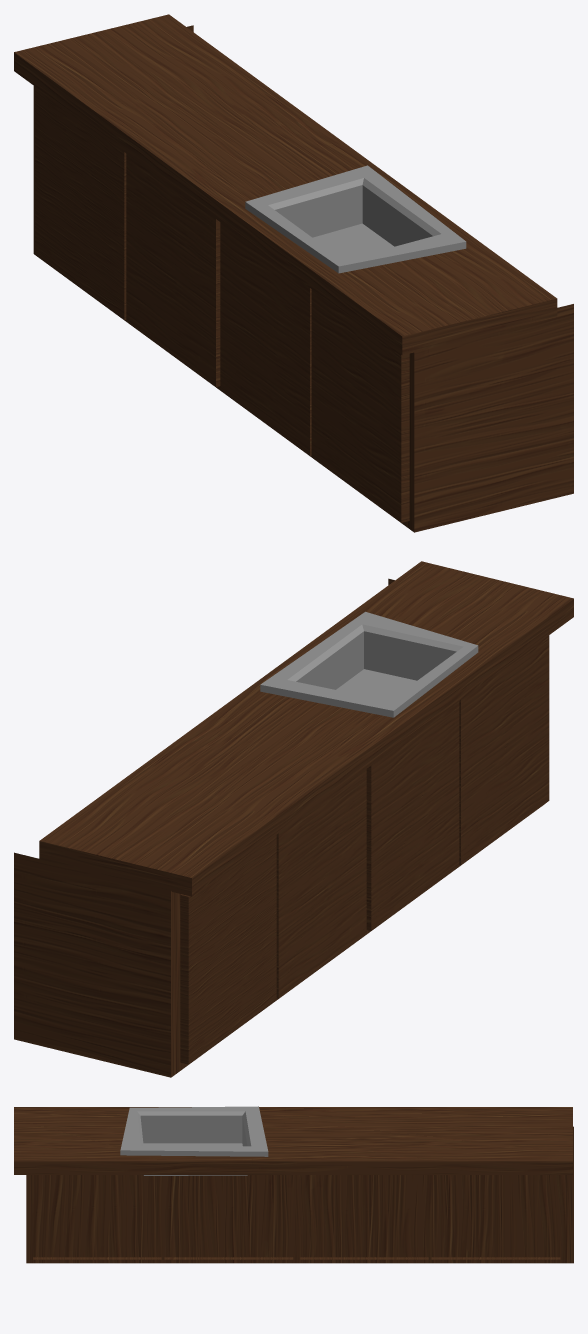
The model's file is KitchenCounter2.fbx.
3 views of the same model, one above another, from view 1: azimuth 30°, elevation 25°; view 2: azimuth 150°, elevation 25°; view 3: azimuth 270°, elevation 25° (orthographic). The views are drawn at different scales.
Parts seen in each view (by area): view 1: Midnight_Antics_House_Build_V1.010; view 2: Midnight_Antics_House_Build_V1.010; view 3: Midnight_Antics_House_Build_V1.010.
Part boxes in pixels (x1,y1,x2,y2): Midnight_Antics_House_Build_V1.010: (14, 14, 573, 532); Midnight_Antics_House_Build_V1.010: (14, 561, 573, 1077); Midnight_Antics_House_Build_V1.010: (14, 1106, 573, 1263).
Bounding box in the file's own units: 11621 × 13213 × 43455.
